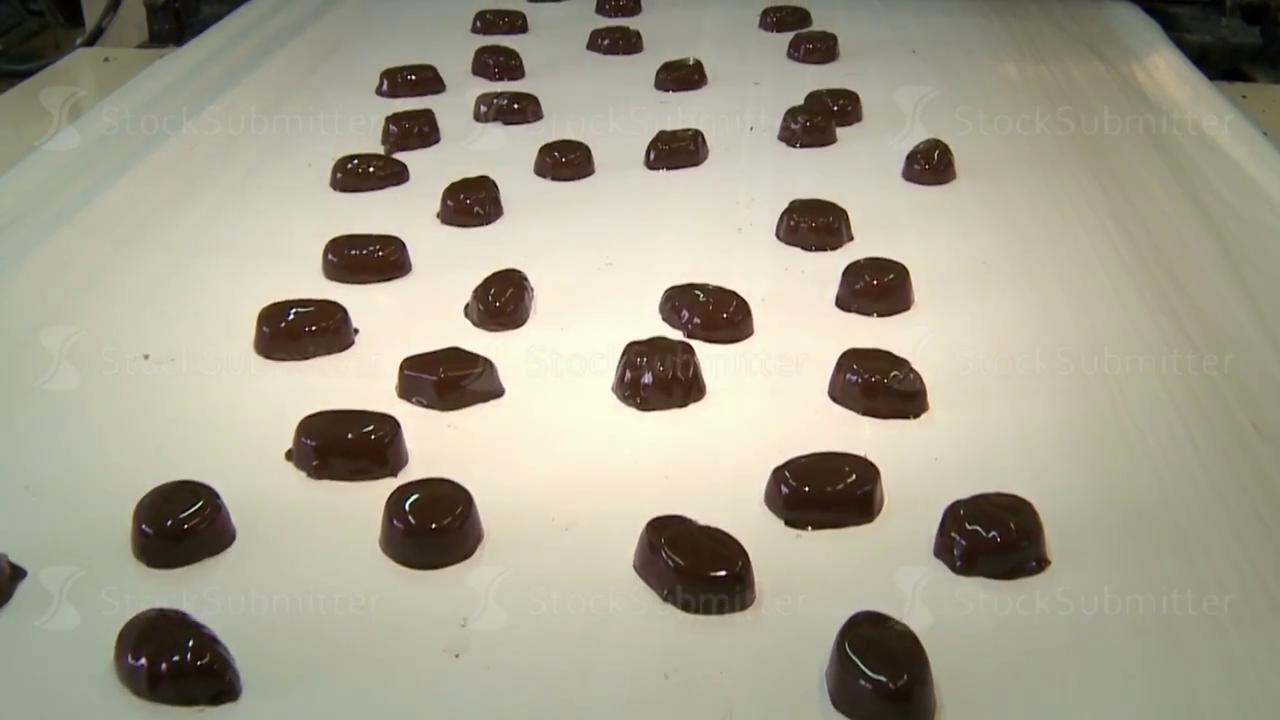chocolate: (113, 606, 242, 706), (632, 513, 756, 615), (824, 609, 937, 719), (933, 491, 1051, 580), (764, 450, 884, 531), (379, 476, 483, 569), (130, 478, 236, 569), (286, 408, 408, 481), (828, 346, 929, 419), (396, 346, 505, 411), (612, 336, 706, 411), (254, 297, 356, 361), (659, 282, 754, 343), (835, 256, 914, 317), (321, 233, 411, 284), (463, 268, 534, 331), (775, 198, 854, 251), (438, 174, 503, 227), (329, 152, 409, 192), (644, 127, 709, 170), (381, 107, 440, 152), (778, 104, 837, 148), (902, 137, 956, 185), (534, 139, 594, 181), (473, 90, 543, 125), (375, 63, 445, 97), (805, 87, 862, 126), (471, 44, 525, 81), (654, 56, 707, 92), (787, 29, 838, 64), (586, 24, 643, 55), (470, 8, 528, 35), (758, 5, 812, 32)
